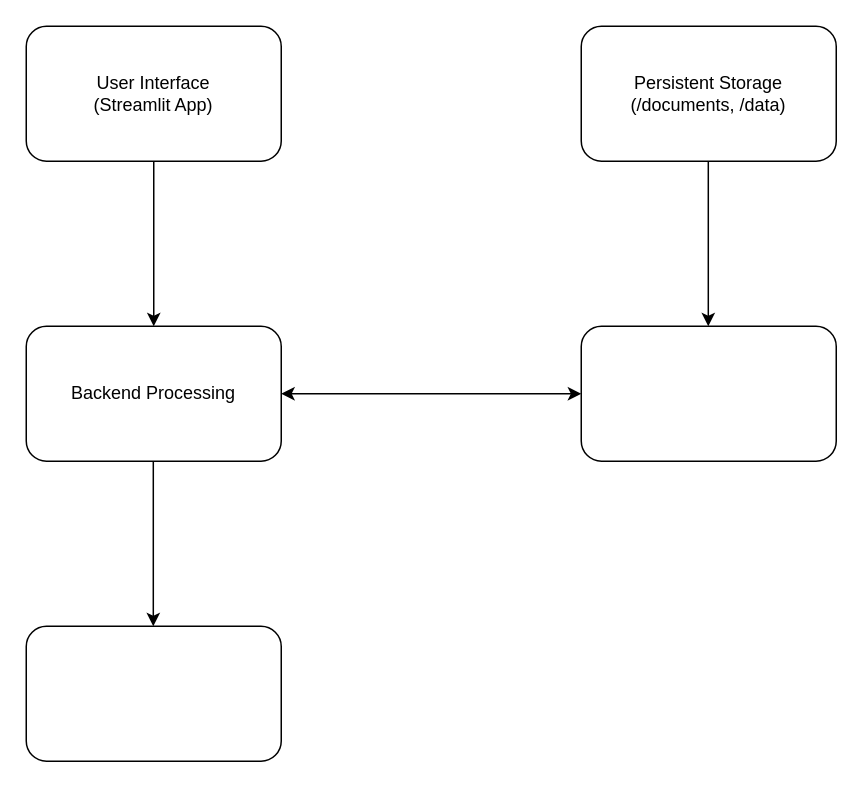
The diagram is 863 pixels wide and 788 high, and some of its shapes have lost their labels. Each missing label, with the centre of its shape:
"Preprocessing & AI Modules" belongs at [153,693].
"Vector Database (FAISS)" belongs at [708,393].
